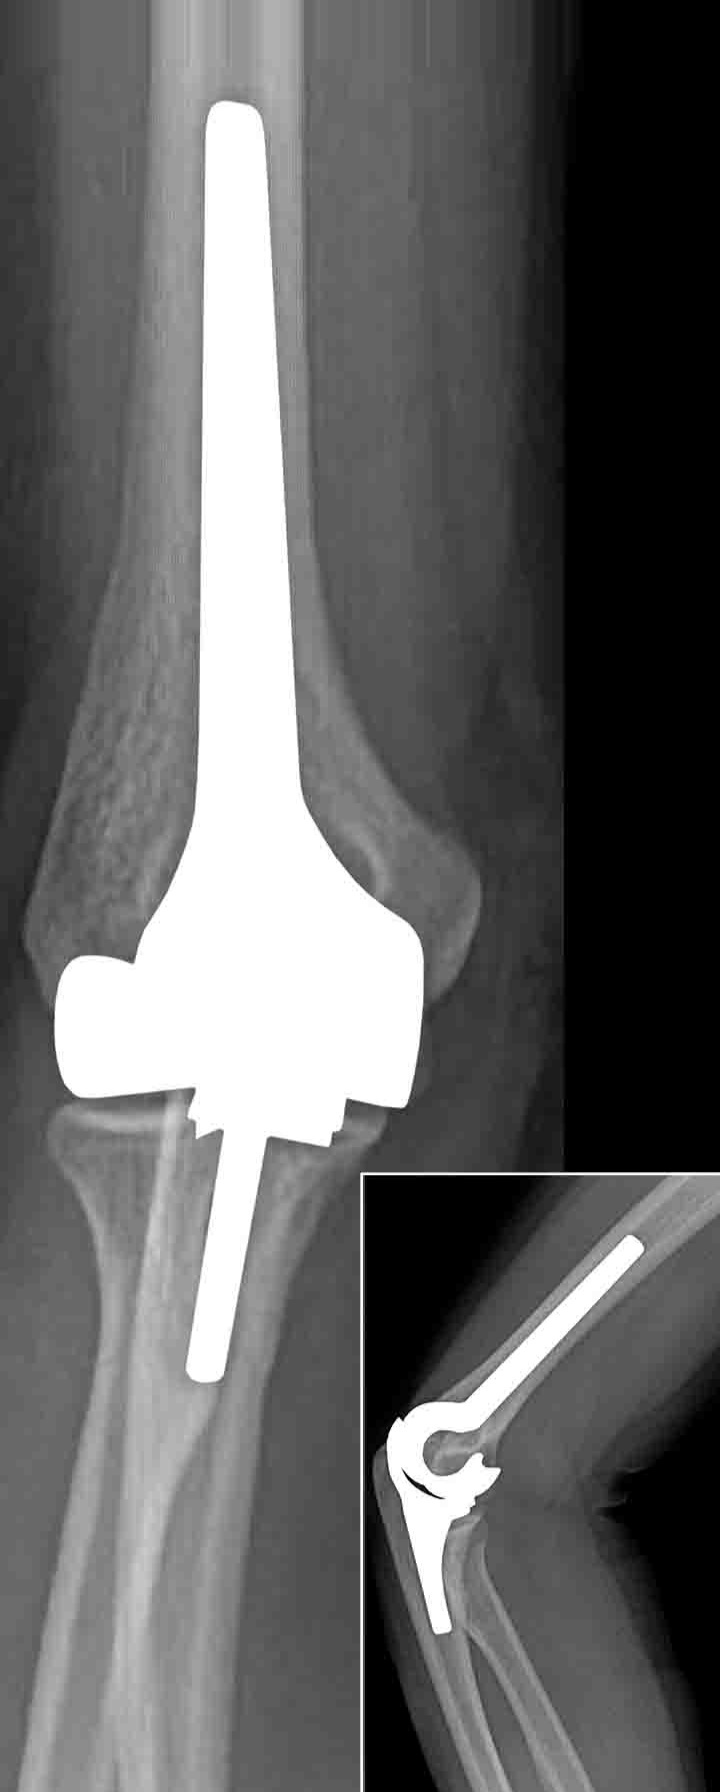Elbow - IBP - Biomet: (43, 86, 437, 1393), (374, 1200, 663, 1653)
